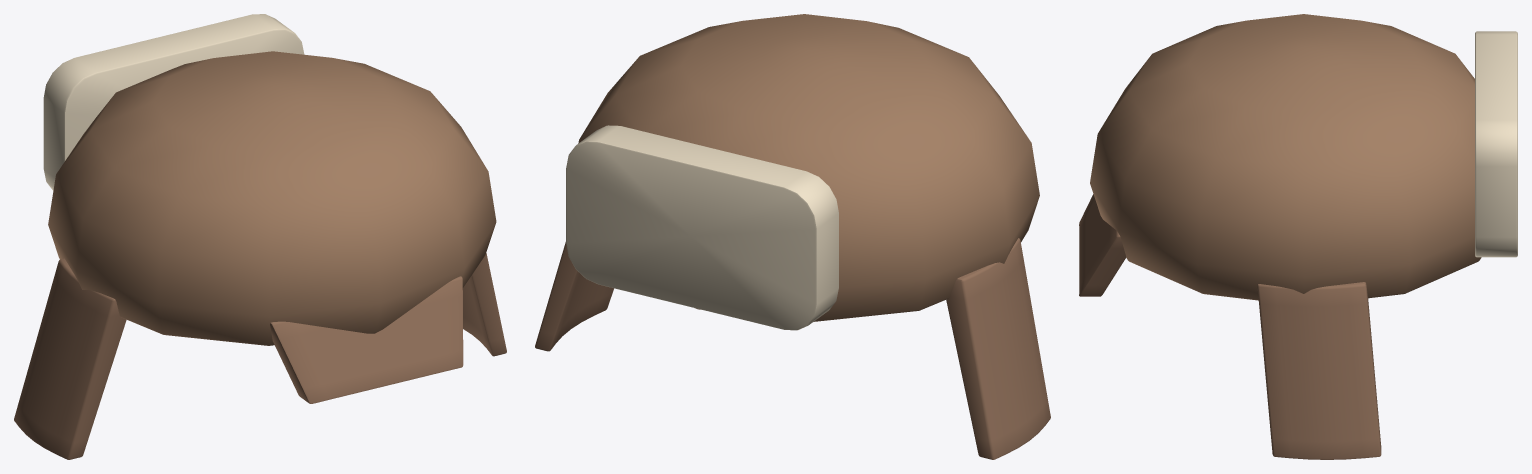
Rendered from ushanka.glb.
3 renders of one model, left to right at view 1: azimuth 30°, elevation 25°; view 2: azimuth 150°, elevation 25°; view 3: azimuth 270°, elevation 25°, orthographic. The views are drawn at different scales.
Visible parts, largest first — view 1: HAT_Ushanka_Crown, HAT_Ushanka_Flap_L, HAT_Ushanka_Back, HAT_Ushanka_Front, HAT_Ushanka_Flap_R; view 2: HAT_Ushanka_Crown, HAT_Ushanka_Front, HAT_Ushanka_Flap_L, HAT_Ushanka_Flap_R; view 3: HAT_Ushanka_Crown, HAT_Ushanka_Flap_R, HAT_Ushanka_Front, HAT_Ushanka_Back.
Boxes of the visible parts, x1=… form: HAT_Ushanka_Crown: x1=48, y1=51, x2=496, y2=345; HAT_Ushanka_Flap_L: x1=14, y1=258, x2=126, y2=459; HAT_Ushanka_Back: x1=270, y1=276, x2=463, y2=403; HAT_Ushanka_Front: x1=43, y1=14, x2=304, y2=190; HAT_Ushanka_Flap_R: x1=462, y1=253, x2=506, y2=356; HAT_Ushanka_Crown: x1=578, y1=14, x2=1039, y2=321; HAT_Ushanka_Front: x1=566, y1=125, x2=838, y2=330; HAT_Ushanka_Flap_L: x1=946, y1=238, x2=1050, y2=459; HAT_Ushanka_Flap_R: x1=535, y1=242, x2=613, y2=351; HAT_Ushanka_Crown: x1=1090, y1=14, x2=1481, y2=300; HAT_Ushanka_Flap_R: x1=1257, y1=282, x2=1381, y2=459; HAT_Ushanka_Front: x1=1475, y1=31, x2=1517, y2=257; HAT_Ushanka_Back: x1=1079, y1=194, x2=1126, y2=296.
Bounding box in the file's own units: 0.6585 × 0.432 × 0.5638.
